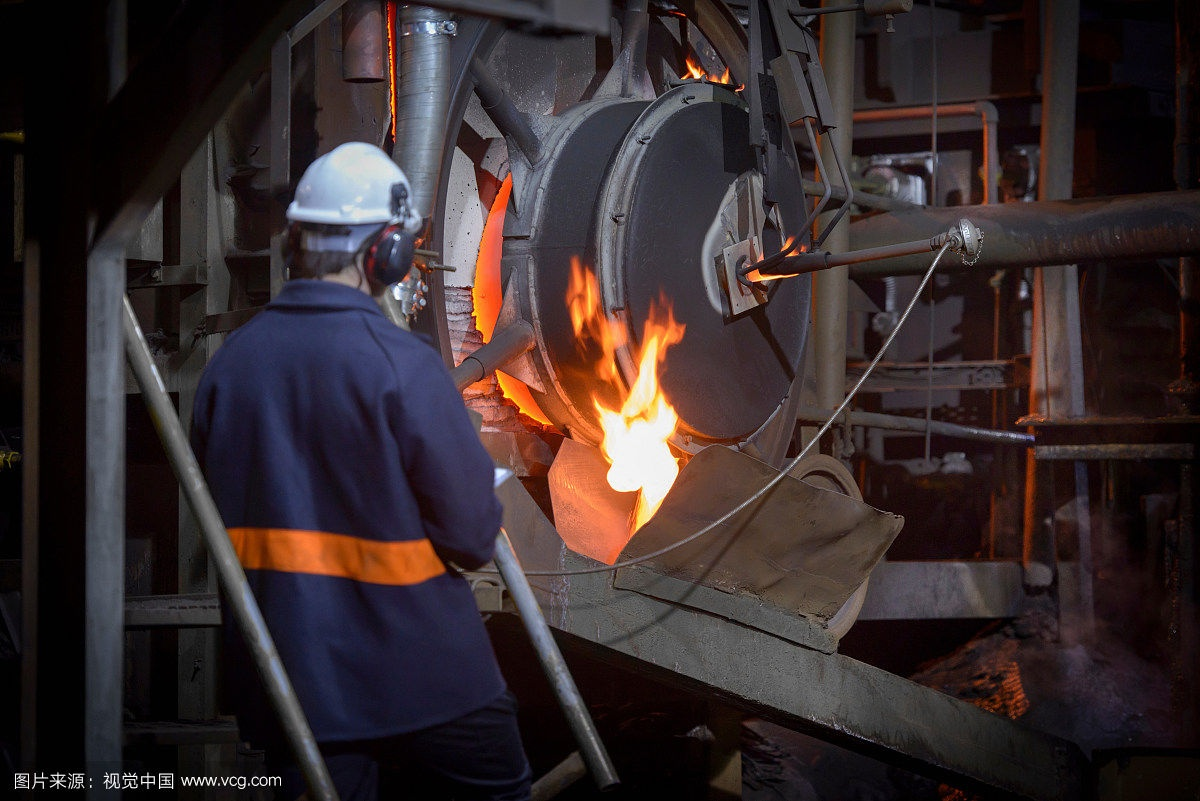white: (266, 135, 418, 303)
